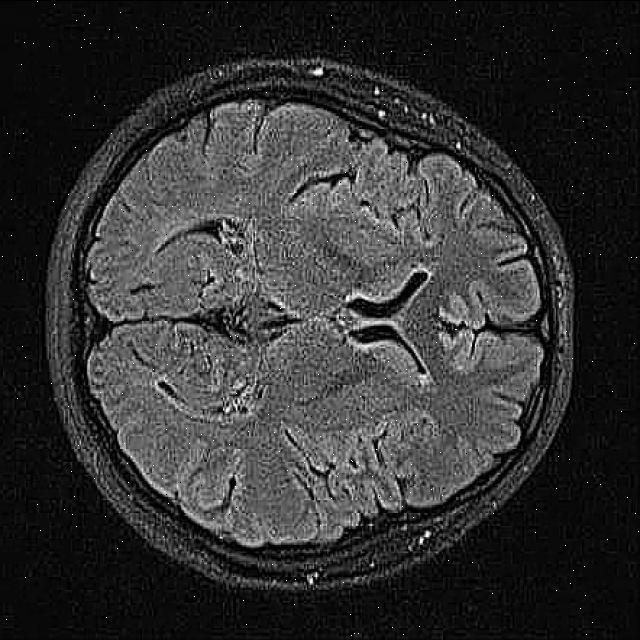No_Tumor: (46, 60, 573, 589)
